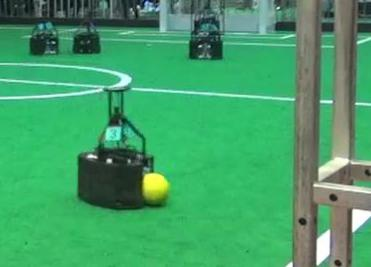robot: (71, 81, 175, 210), (185, 1, 225, 62), (27, 5, 62, 59), (70, 14, 105, 55)
